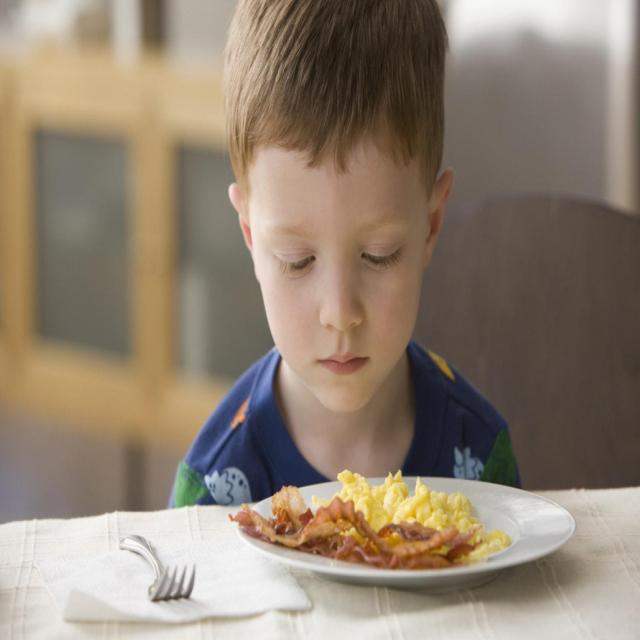child: (174, 2, 520, 474)
